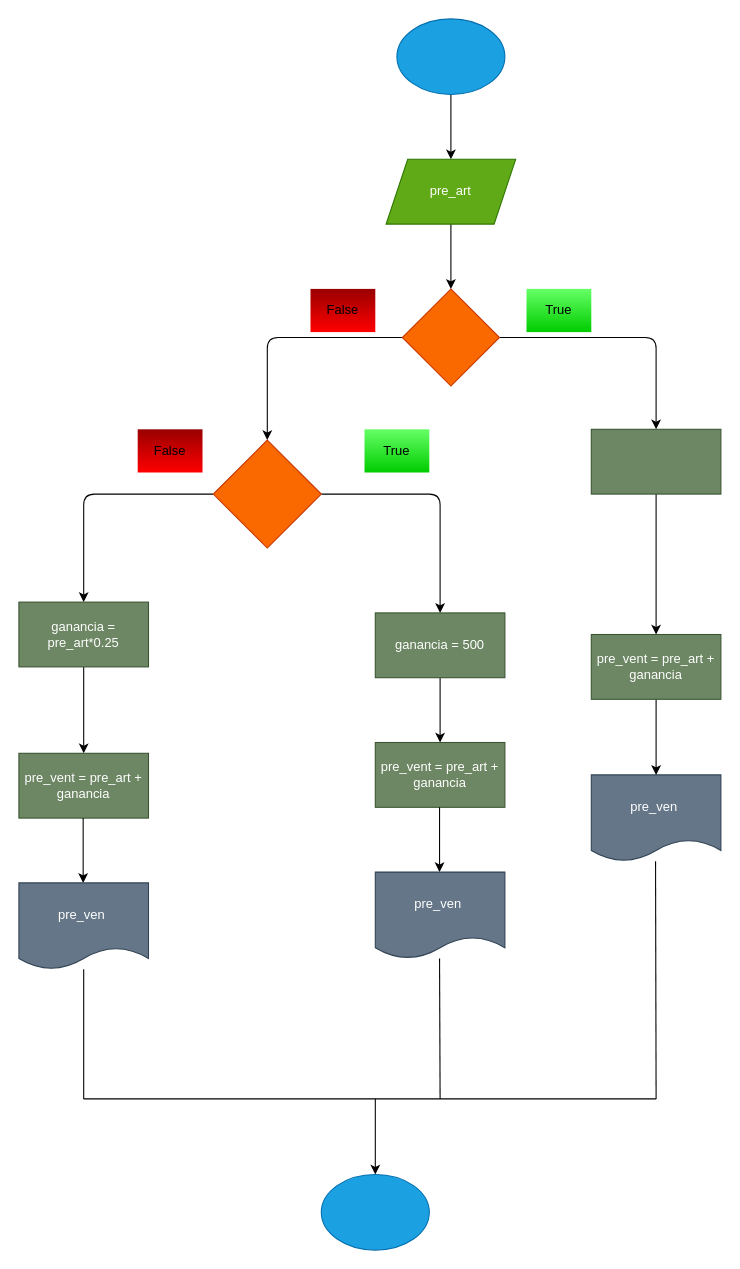
Some shapes in this 740 by 1269 pixel diagram are drawn without their labels. The shapes that lost their labels are listed below. From the top down, each one's centre as x and y in pixels, then its label:
At point 450,56: "Inicio".
At point 450,337: "pre_art<3000".
At point 655,461: "ganancia = pre_art*0.15".
At point 266,493: "pre_art > 6000".
At point 374,1211: "Fin".
